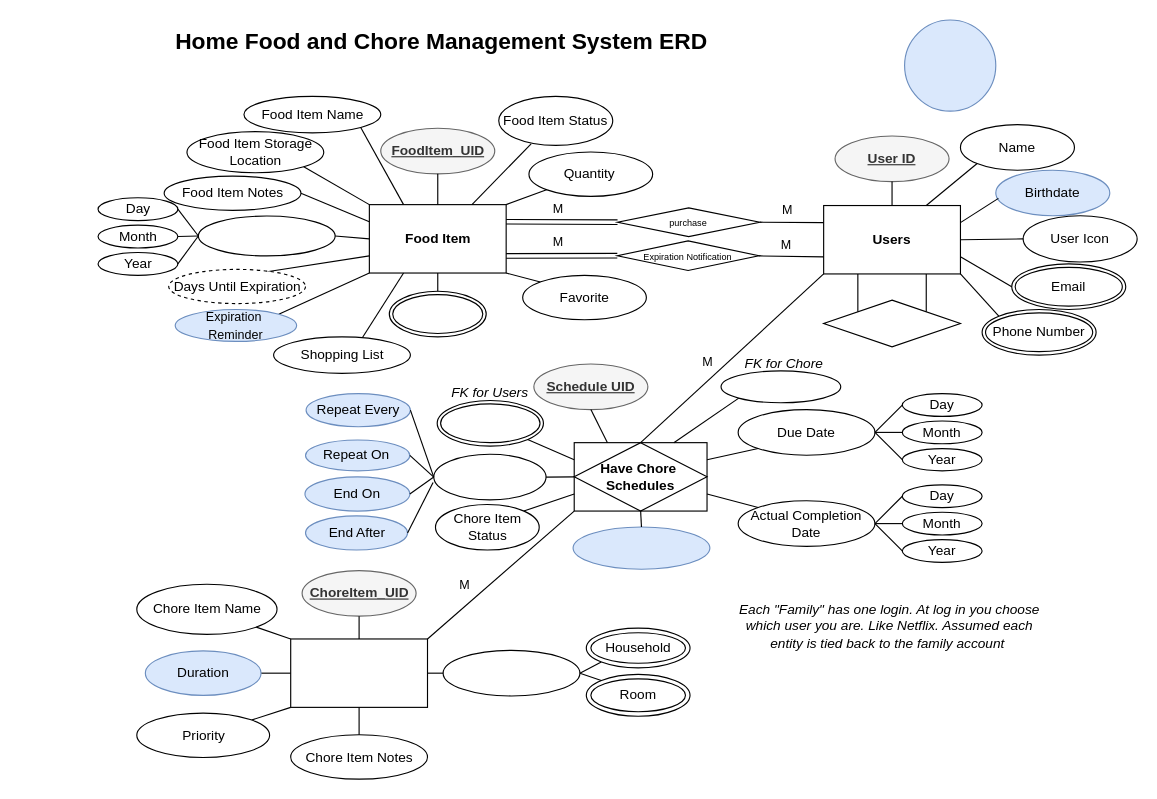
This 1157x799 diagram has some shape labels left out. Each missing label, with the box of its shape:
Assignment: (436, 399, 543, 446)
Chore: (290, 638, 427, 707)
Chore Item Location: (442, 649, 580, 696)
choretocomplete: (720, 370, 841, 403)
Expiration Date: (197, 215, 335, 256)
LINKED_TO: (823, 299, 960, 347)
Notification: (572, 526, 710, 569)
Recurrence / Frequency: (433, 453, 546, 500)
Specialty Store Tag: (388, 290, 486, 337)
Updates to ERD: (903, 19, 996, 111)
